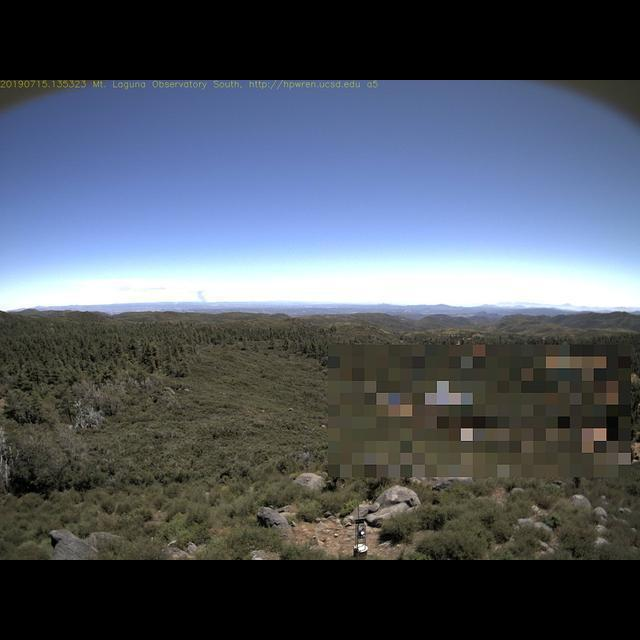Smoke: (193, 286, 210, 310)
